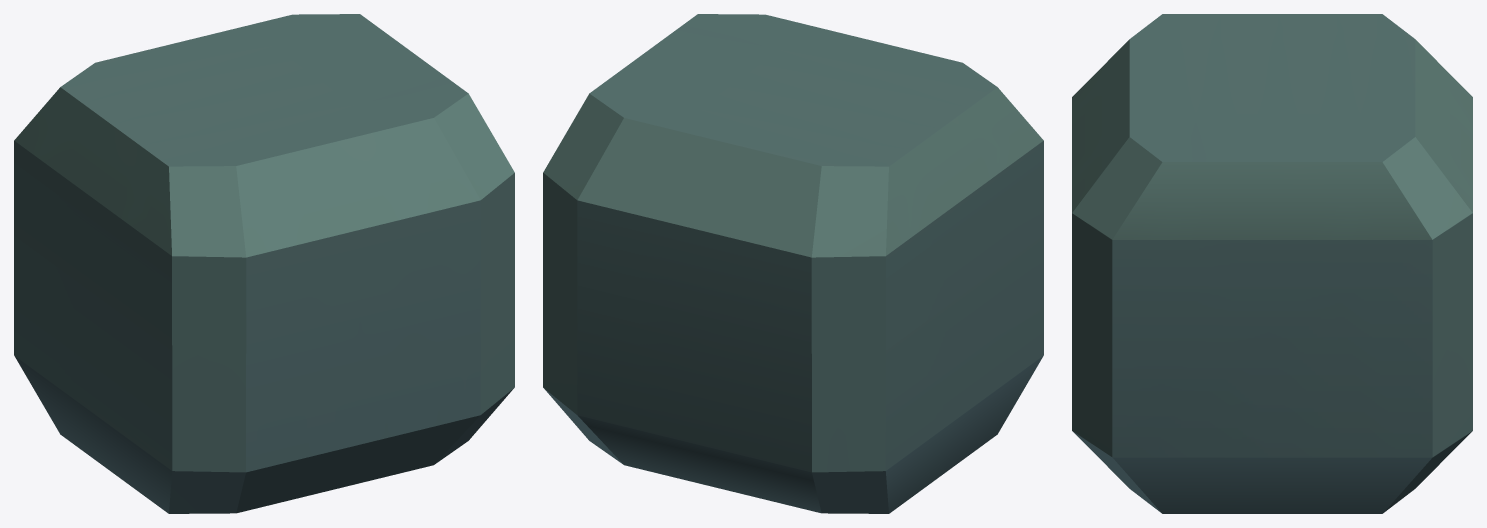
The model's file is archway_small_bridge_part_small.fbx.
3 views of the same model, side by side, from view 1: azimuth 30°, elevation 25°; view 2: azimuth 150°, elevation 25°; view 3: azimuth 270°, elevation 25° (orthographic).
Visible parts, largest first — view 1: archway_small_bridge_part_small; view 2: archway_small_bridge_part_small; view 3: archway_small_bridge_part_small.
Part boxes in pixels (left/top/right/bottom): archway_small_bridge_part_small: left=14, top=14, right=514, bottom=513; archway_small_bridge_part_small: left=543, top=14, right=1043, bottom=513; archway_small_bridge_part_small: left=1072, top=14, right=1472, bottom=513.
Bounding box in the file's own units: 59.77 × 57.9 × 59.77.
